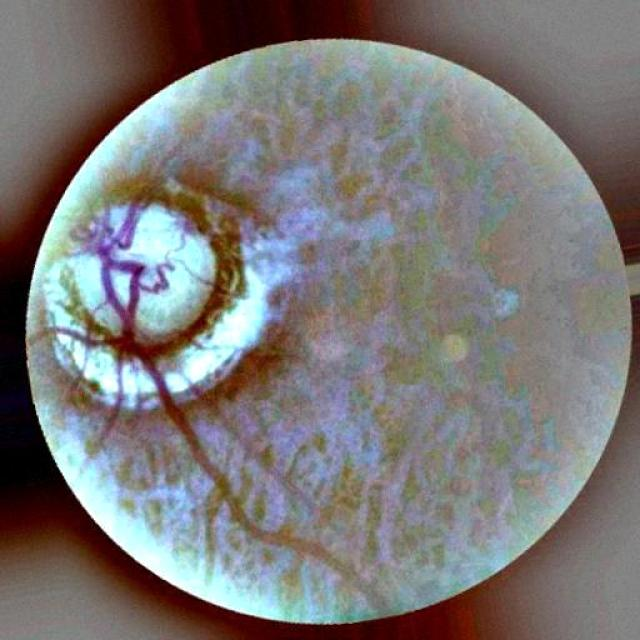Macula: (301, 243, 322, 266)
Nerves: (138, 348, 228, 493), (67, 328, 138, 420), (117, 260, 143, 335)
Optic Disk: (41, 185, 271, 441)
